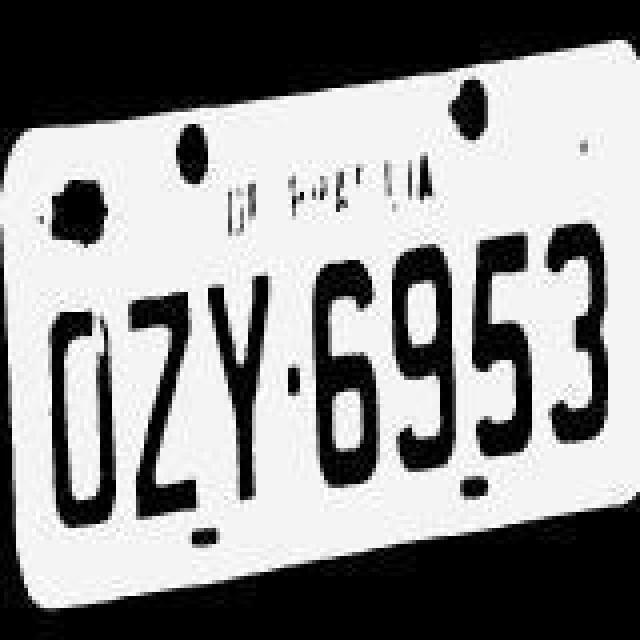3: (536, 194, 616, 478)
5: (460, 202, 540, 486)
6: (306, 236, 382, 516)
9: (388, 230, 460, 498)
O: (44, 266, 124, 542)
Y: (204, 242, 276, 526)
Z: (126, 246, 202, 530)
